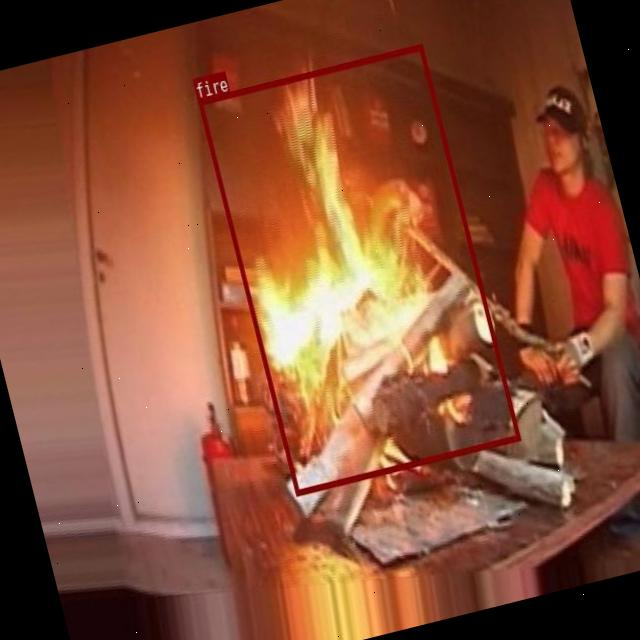fire: (197, 43, 520, 495)
